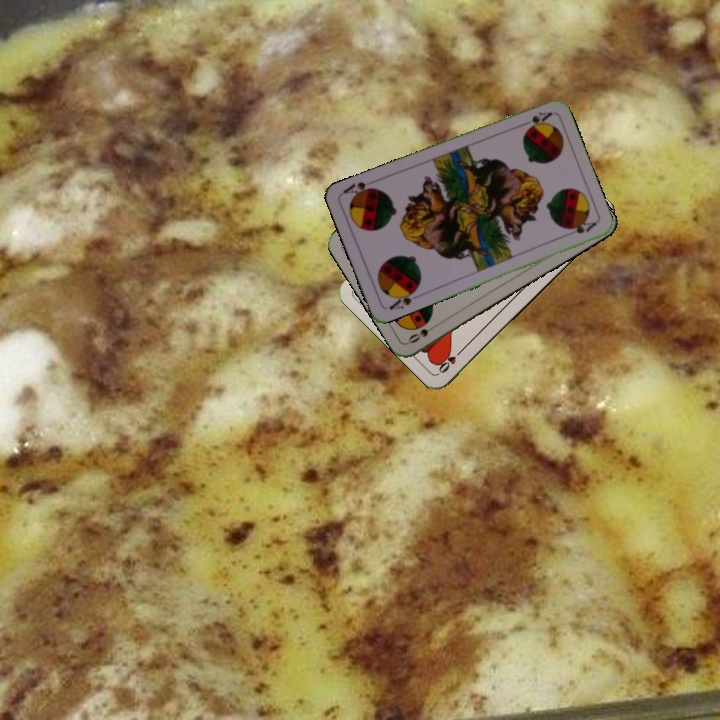HO: (434, 344, 467, 376)
SA: (385, 284, 423, 312), (515, 108, 554, 133)
SO: (404, 320, 441, 346)
